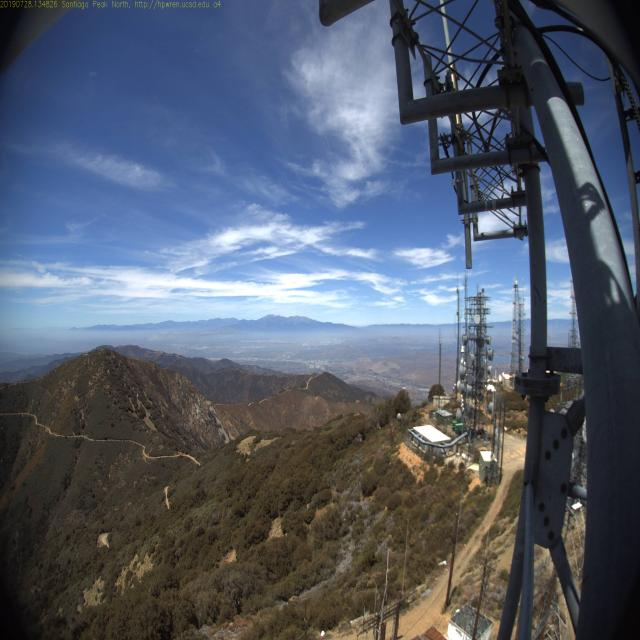smoke: (141, 324, 171, 351)
